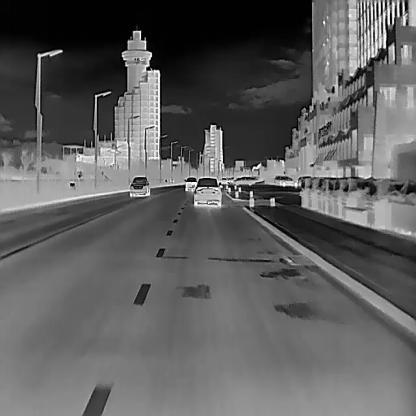car: (193, 176, 221, 208), (127, 175, 149, 198), (275, 173, 297, 188), (233, 175, 256, 185), (183, 176, 196, 190)
